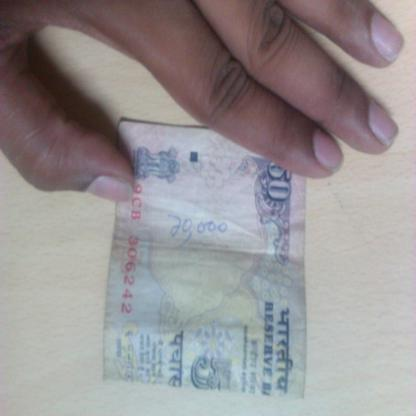Old50Front: (102, 118, 308, 402)
